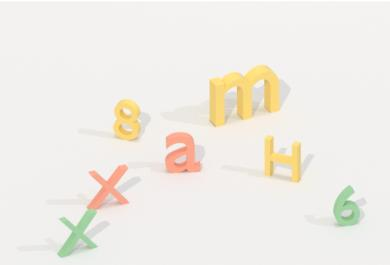6: (329, 181, 363, 228)
8: (112, 94, 143, 144)
X: (52, 208, 103, 261), (82, 161, 132, 213)
a: (161, 130, 205, 177)
h: (260, 132, 304, 185)
m: (204, 60, 286, 131)
